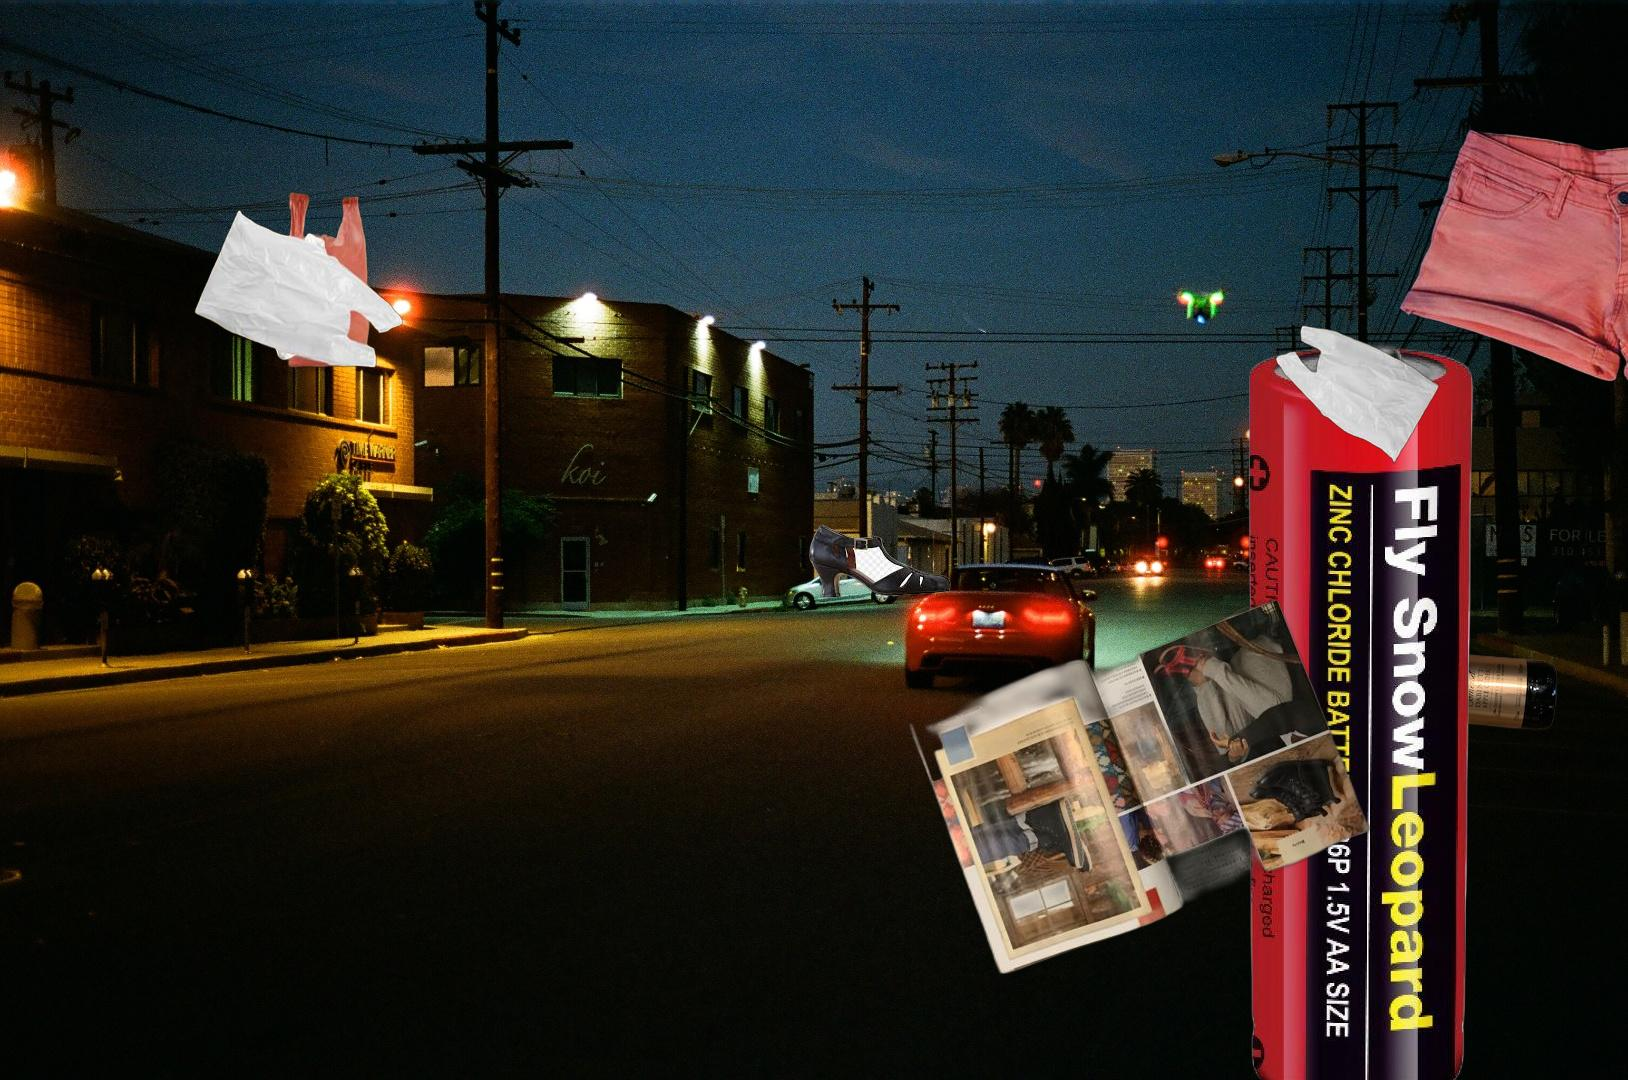battery: (1246, 335, 1477, 1080)
clothes: (1395, 121, 1628, 392)
glass: (1322, 647, 1562, 735)
paper: (904, 595, 1373, 978)
plastic-bag: (192, 189, 404, 371), (1273, 322, 1441, 466)
shoes: (807, 523, 953, 601)
